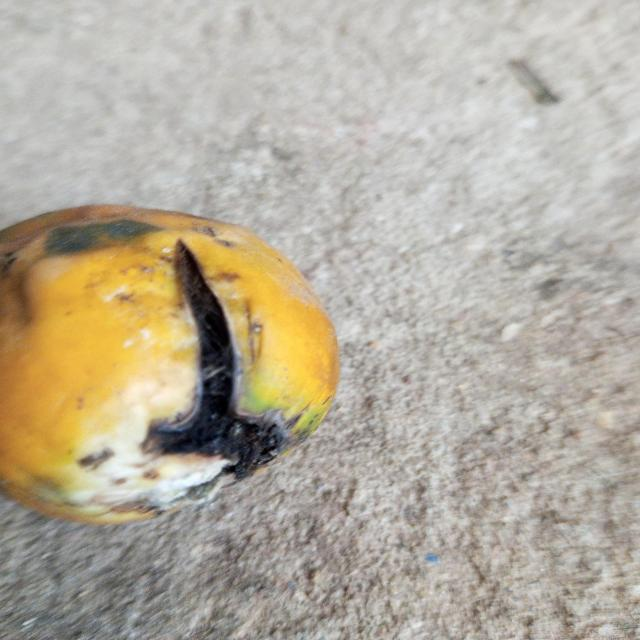damaged: (0, 205, 339, 524)
